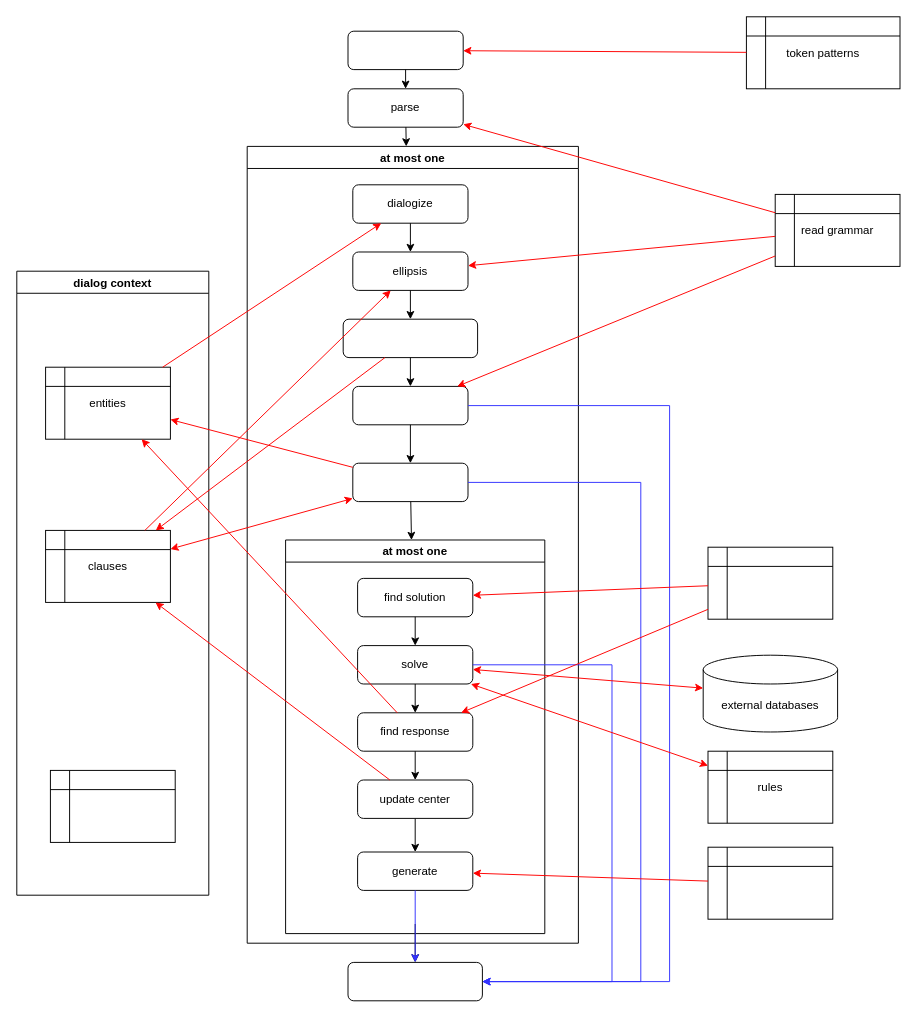
Some shapes in this 917 by 1018 pixel diagram are drawn without their labels. Each missing label, with the centre of its shape:
"anaphora resolution" goes at point (410, 482).
"deictic center" goes at point (112, 805).
"provide output" goes at point (414, 981).
"relationize" goes at point (410, 405).
"root clause extraction" goes at point (410, 338).
"solutions" goes at point (770, 582).
"tokenize" goes at point (405, 50).
"write grammar" goes at point (770, 882).
